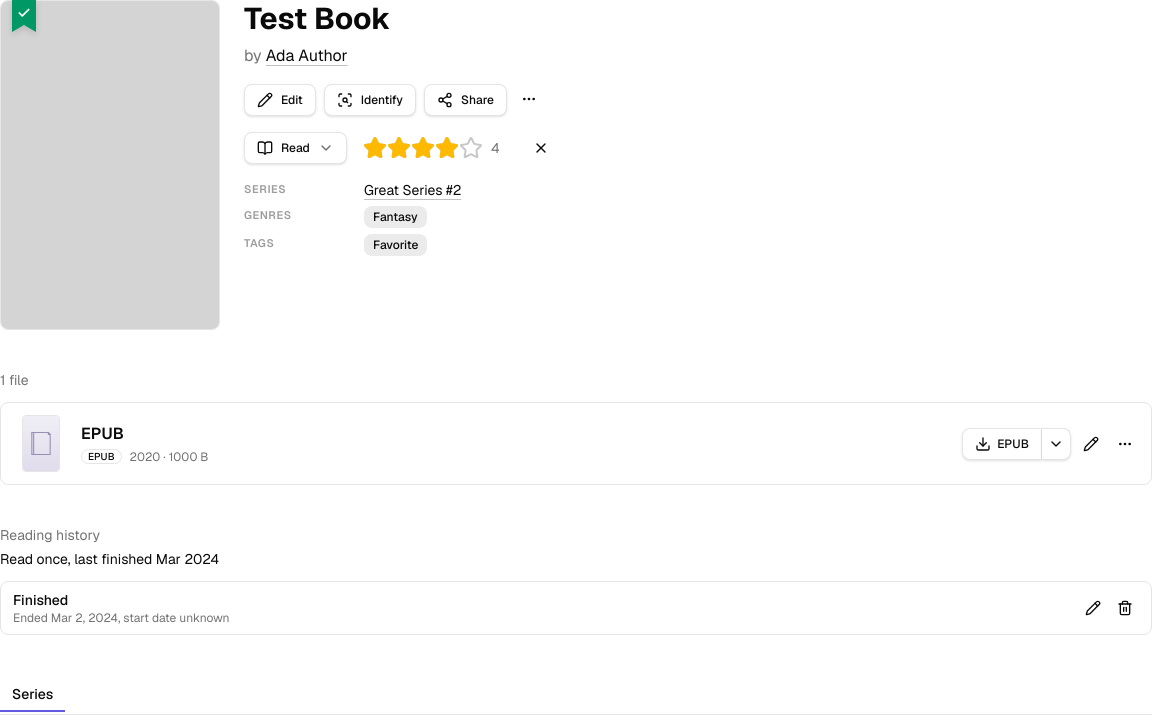
Test case: BookDetailBody file rows › opens a file's details from its menu
The width and height of the screenshot is (1152, 720).
Click the button named "File actions": (1125,444) left=1111, top=430, right=1139, bottom=458
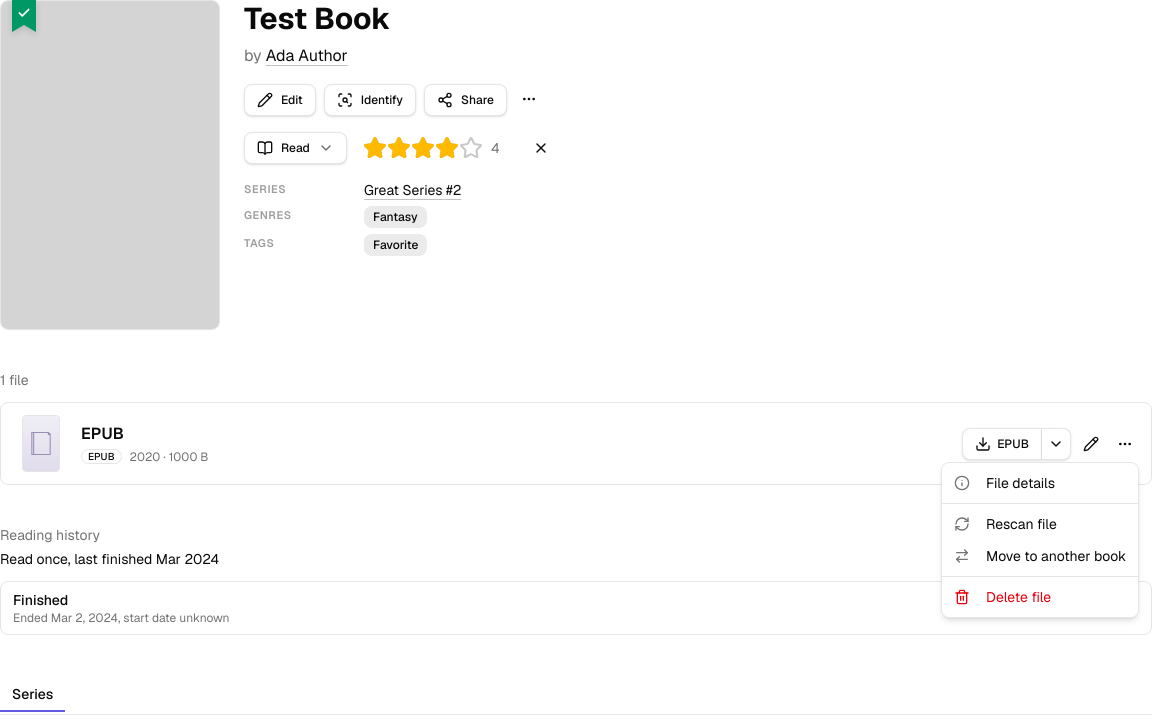
Click the menu item "File details": (1005,483) left=954, top=474, right=1055, bottom=492
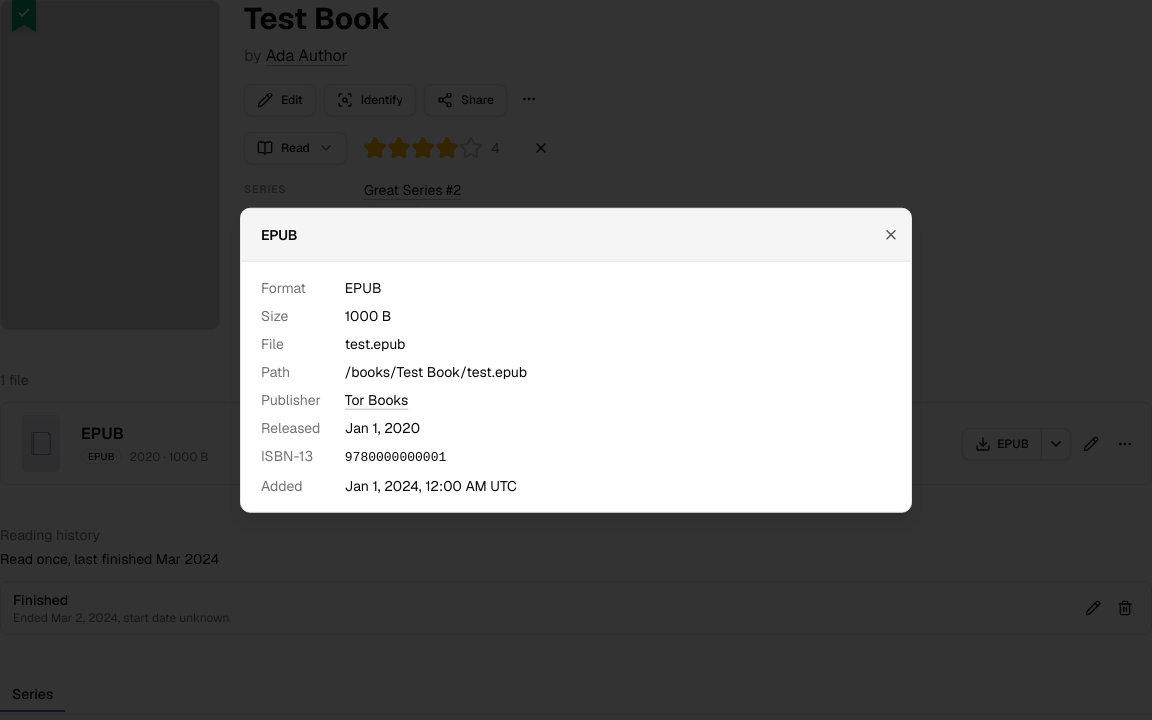
Expected: the text "/books/Test Book/test.epub" is shown, left=345, top=363, right=527, bottom=381
Expected: the text "9780000000001" is shown, left=345, top=450, right=446, bottom=465
